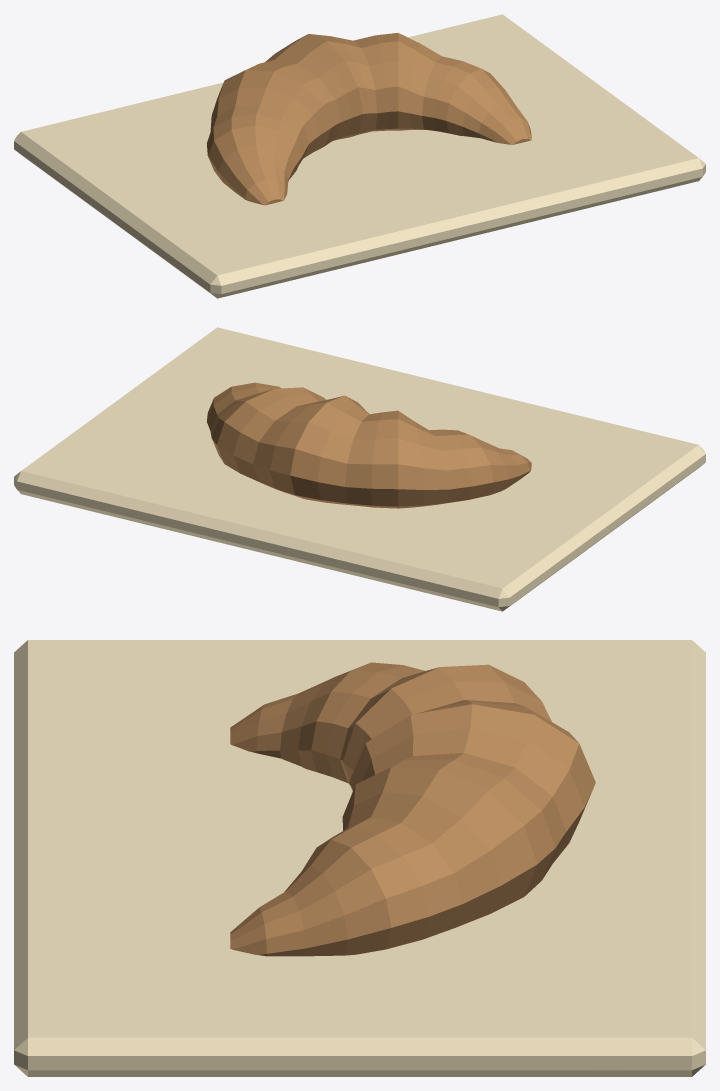
3 views of the same model, one above another, from view 1: azimuth 30°, elevation 25°; view 2: azimuth 150°, elevation 25°; view 3: azimuth 270°, elevation 25° (orthographic). The views are drawn at different scales.
Parts seen in each view (by area): view 1: bakery-croissant-01; view 2: bakery-croissant-01; view 3: bakery-croissant-01.
Boxes of the visible parts, x1,y1,x2,y2 form: bakery-croissant-01: (14, 14, 705, 298); bakery-croissant-01: (14, 327, 705, 611); bakery-croissant-01: (14, 640, 705, 1076).
Size of the model in its own units: 0.56 by 0.1109 by 0.4.
